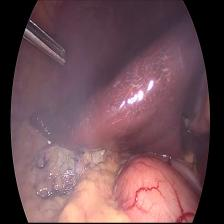Grasper: (23, 13, 76, 77)
